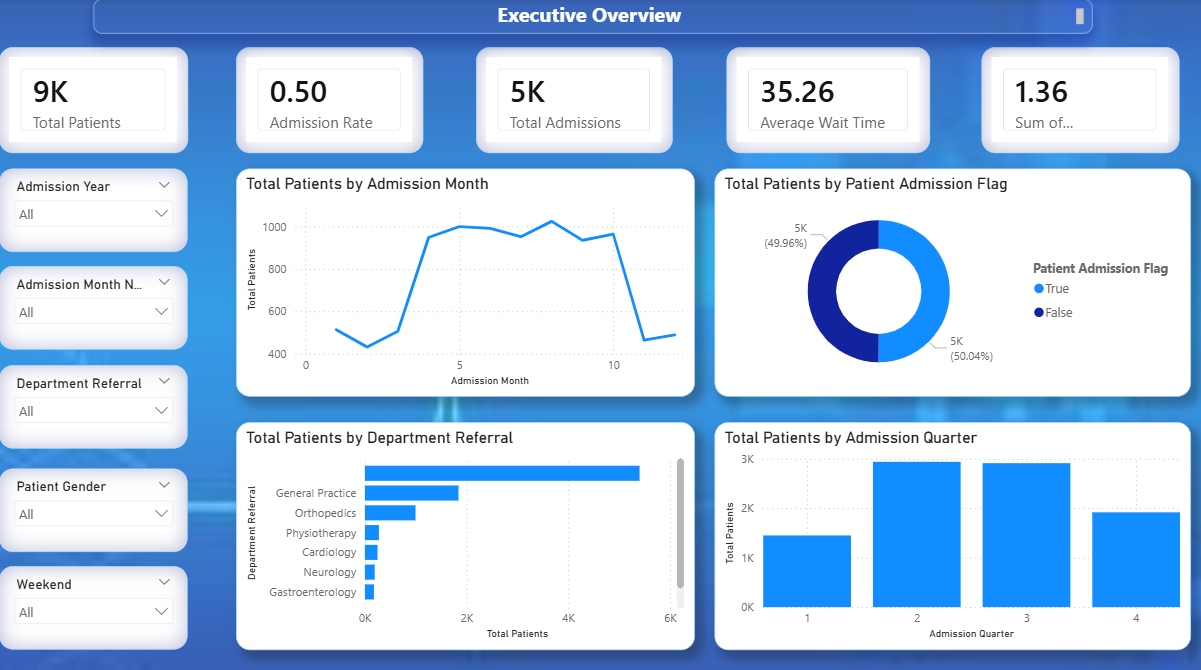

Layout of this report page (visuals, bound fields, positions):
{"tool":"powerbi","page":{"name":"Executive Overview","canvas":[1280,720],"ordinal":0},"visuals":[{"type":"cardVisual","fields":{"Data":["healthcare_data.Total Patients"]},"box":[12.7,0,200.4,149.5],"z":0},{"type":"cardVisual","fields":{"Data":["healthcare_data.Total Admissions"]},"box":[511.7,0,208.3,150],"z":1000},{"type":"cardVisual","fields":{"Data":["healthcare_data.Admission Rate"]},"box":[263.3,0,200,150],"z":2000},{"type":"cardVisual","title":"Average Satisfaction Score","fields":{"Data":["Sum(vw_executive_kpi.Avg_Satisfaction)"]},"box":[1041.7,0,210,150],"z":3000},{"type":"cardVisual","fields":{"Data":["healthcare_data.Average Wait Time"]},"box":[770,0,216.7,150],"z":4000},{"type":"lineChart","fields":{"Category":["healthcare_data.Admission Month"],"Y":["healthcare_data.Total Patients"]},"box":[251.7,180,486.7,241.7],"z":5000},{"type":"clusteredBarChart","fields":{"Y":["healthcare_data.Total Patients"],"Category":["healthcare_db vw_department_performance.Department Referral"]},"box":[251.7,448.3,486.7,241.7],"z":6000},{"type":"donutChart","fields":{"Category":["healthcare_data.Patient Admission Flag"],"Y":["healthcare_data.Total Patients"]},"box":[758.3,180,505,241.7],"z":7000},{"type":"clusteredColumnChart","fields":{"Y":["healthcare_data.Total Patients"],"Category":["healthcare_data.Admission Quarter"]},"box":[758.3,448.3,505,241.7],"z":8000},{"type":"slicer","fields":{"Values":["healthcare_data.Admission Year"]},"box":[0,180,200,88.3],"z":9000},{"type":"slicer","fields":{"Values":["healthcare_data.Admission Month Name"]},"box":[0,283.3,200,88.3],"z":10000},{"type":"slicer","fields":{"Values":["healthcare_data.Department Referral"]},"box":[0,388.3,200,88.3],"z":11000},{"type":"slicer","fields":{"Values":["healthcare_data.Patient Gender"]},"box":[0,498.3,200,88.3],"z":12000},{"type":"slicer","fields":{"Values":["healthcare_data.Weekend"]},"box":[0,601.7,200,88.3],"z":13000}]}

Visuals, with their boxes in screenshot pixels (x1, y1, x2, y2), scaled from the page's 1280x720 canvas onto the 1201x670 screenshot:
cardVisual - healthcare_data.Total Patients: 12,0,200,139
cardVisual - healthcare_data.Total Admissions: 480,0,676,140
cardVisual - healthcare_data.Admission Rate: 247,0,435,140
"Average Satisfaction Score" cardVisual: 977,0,1174,140
cardVisual - healthcare_data.Average Wait Time: 722,0,926,140
lineChart - healthcare_data.Admission Month x healthcare_data.Total Patients: 236,168,693,392
clusteredBarChart - healthcare_data.Total Patients x healthcare_db vw_department_performance.Department Referral: 236,417,693,642
donutChart - healthcare_data.Patient Admission Flag x healthcare_data.Total Patients: 711,168,1185,392
clusteredColumnChart - healthcare_data.Total Patients x healthcare_data.Admission Quarter: 711,417,1185,642
slicer - healthcare_data.Admission Year: 0,168,188,250
slicer - healthcare_data.Admission Month Name: 0,264,188,346
slicer - healthcare_data.Department Referral: 0,361,188,444
slicer - healthcare_data.Patient Gender: 0,464,188,546
slicer - healthcare_data.Weekend: 0,560,188,642
